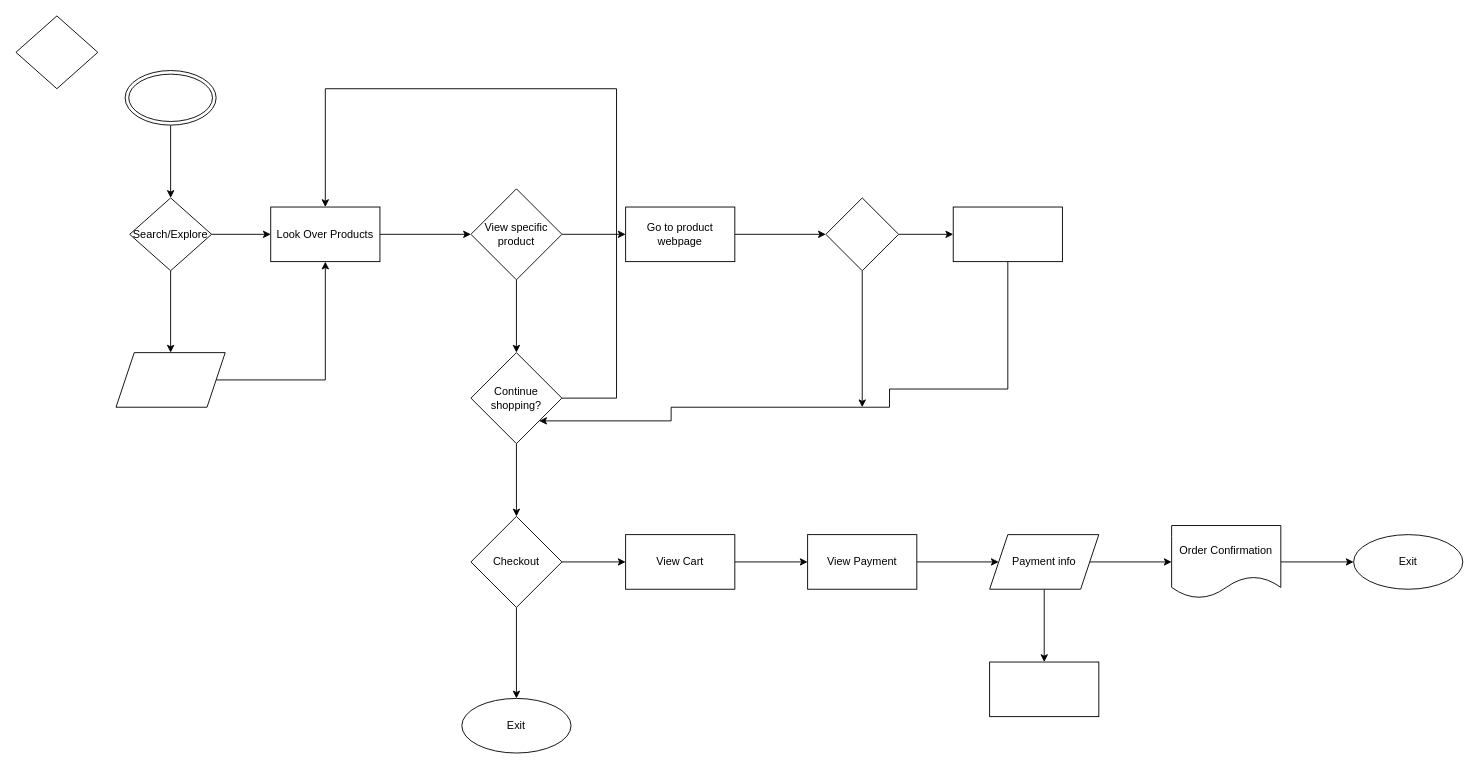
This 1479x769 diagram has some shape labels left out. The shapes that lost their labels are listed below. From the top down, each one's centre as x and y in pixels, then its label:
At pixel 56 52: "Yes is right side No is down".
At pixel 170 97: "Enter Site".
At pixel 862 234: "Add item".
At pixel 1007 234: "Add item to cart".
At pixel 170 379: "Search input".
At pixel 1044 689: "Send email confirmation".
